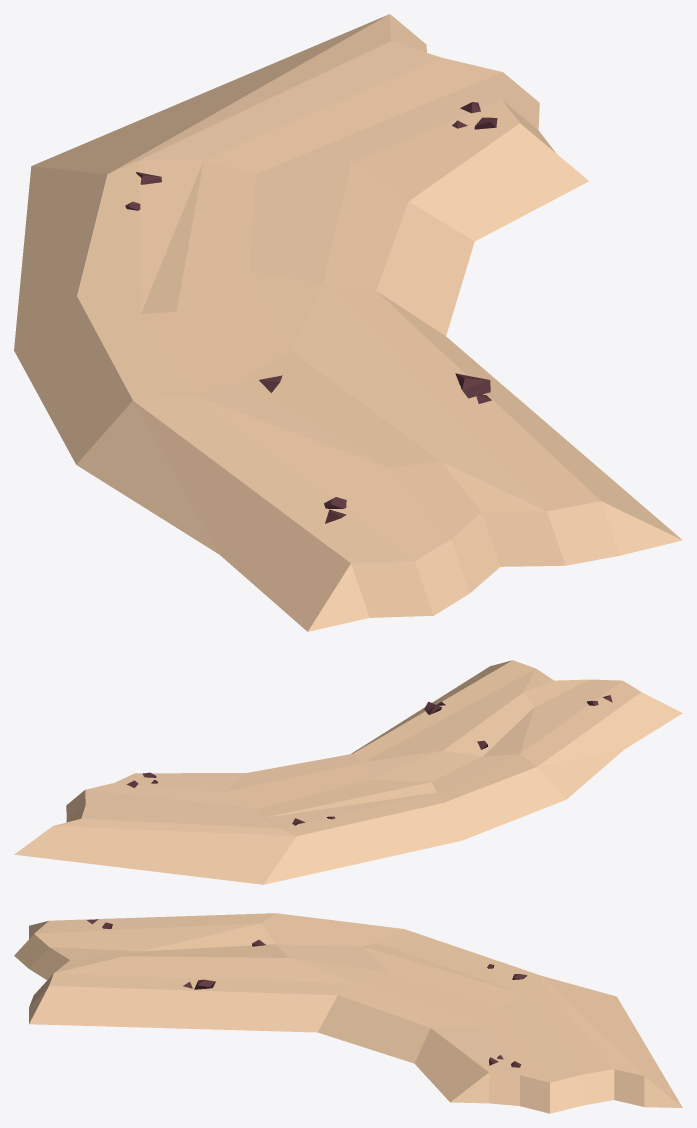
File: SM_Road_Corner_Long_Empire.fbx
3 views of the same model, one above another, from view 1: azimuth 30°, elevation 25°; view 2: azimuth 150°, elevation 25°; view 3: azimuth 270°, elevation 25° (orthographic). The views are drawn at different scales.
Visible parts, largest first — view 1: SM_Road_Corner_Long_Empire; view 2: SM_Road_Corner_Long_Empire; view 3: SM_Road_Corner_Long_Empire.
Boxes of the visible parts, x1,y1,x2,y2 form: SM_Road_Corner_Long_Empire: (14,14,682,631); SM_Road_Corner_Long_Empire: (14,660,682,884); SM_Road_Corner_Long_Empire: (14,913,682,1113).
Size of the model in its own units: 8.61 by 0.6543 by 12.89.
